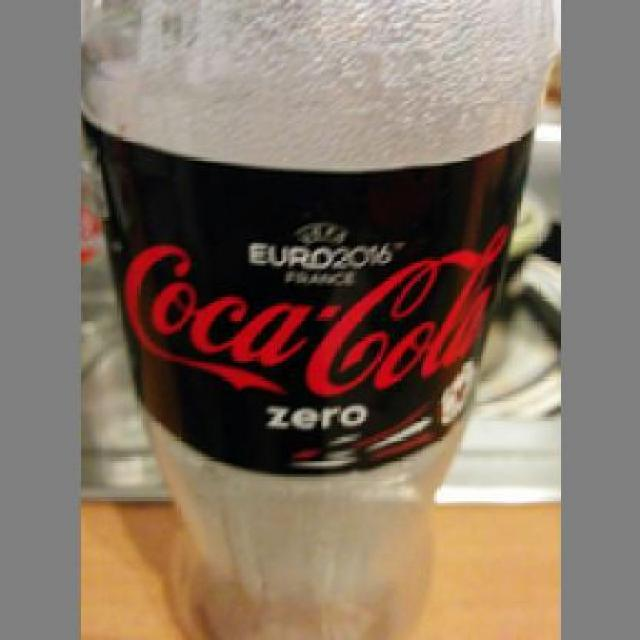Coke: (76, 1, 552, 637)
